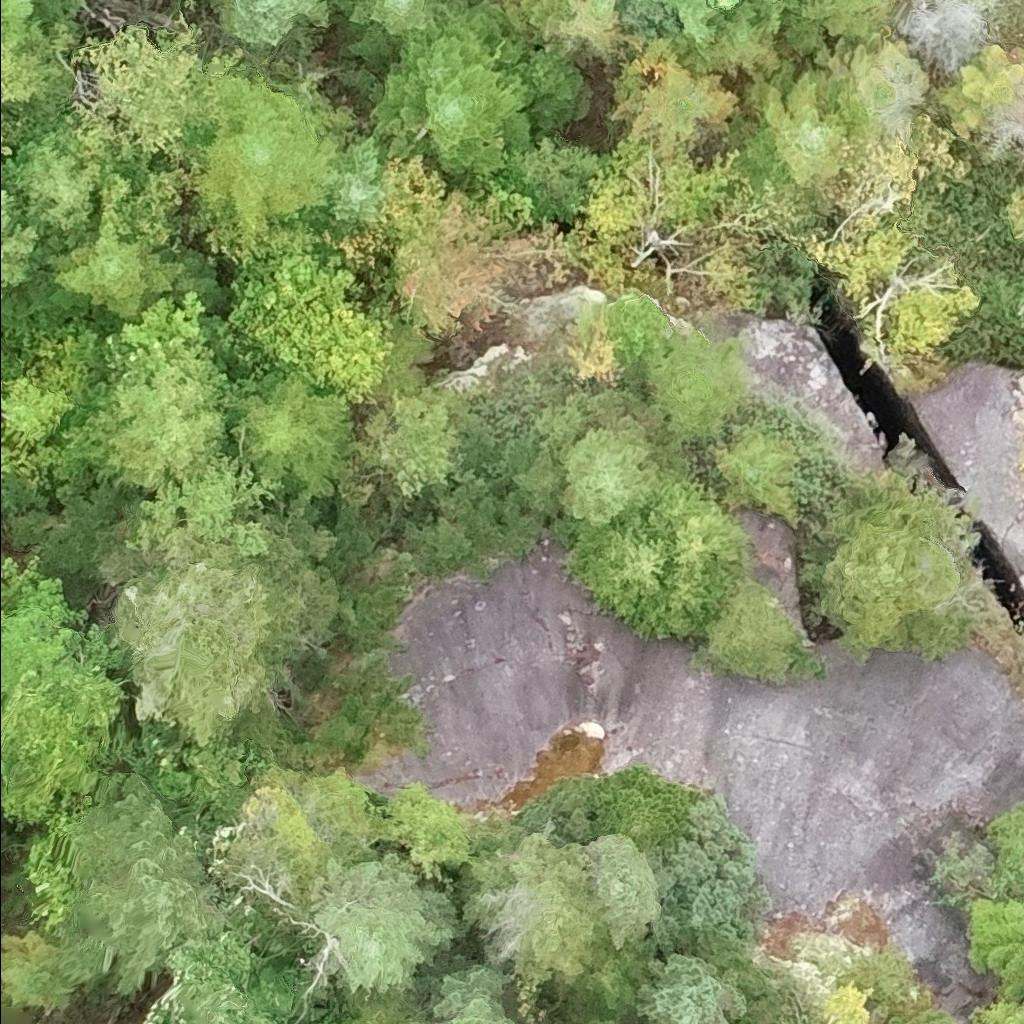crown: (367, 0, 538, 172), (332, 0, 478, 61), (305, 121, 387, 229), (648, 0, 740, 49), (588, 1016, 613, 1023)
